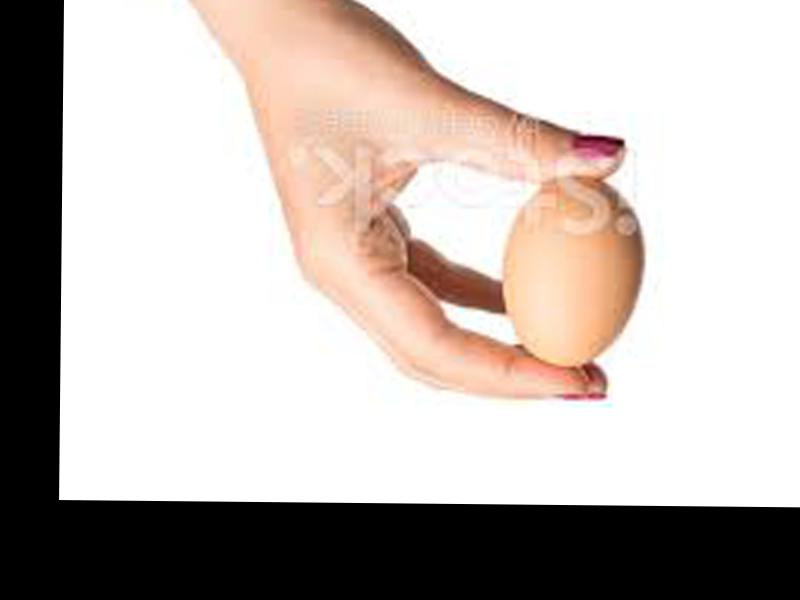Eggs: (504, 174, 639, 366)
